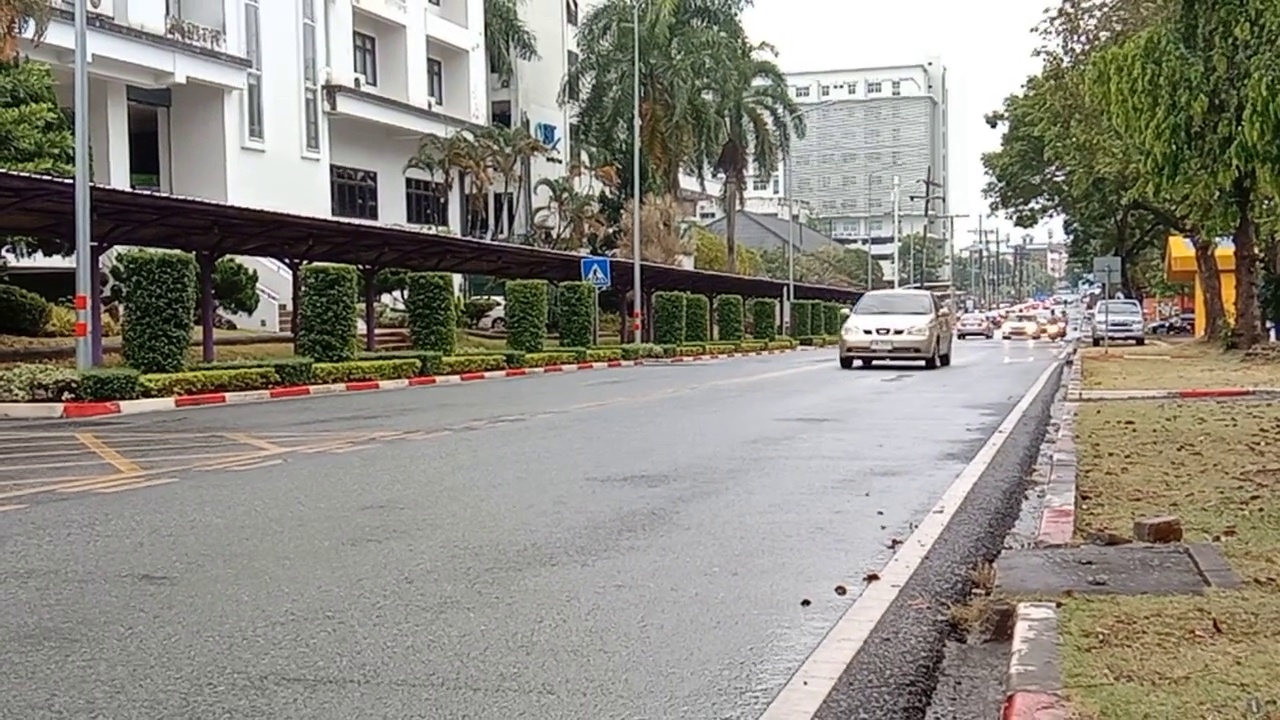License Plate: (868, 338, 890, 352)
